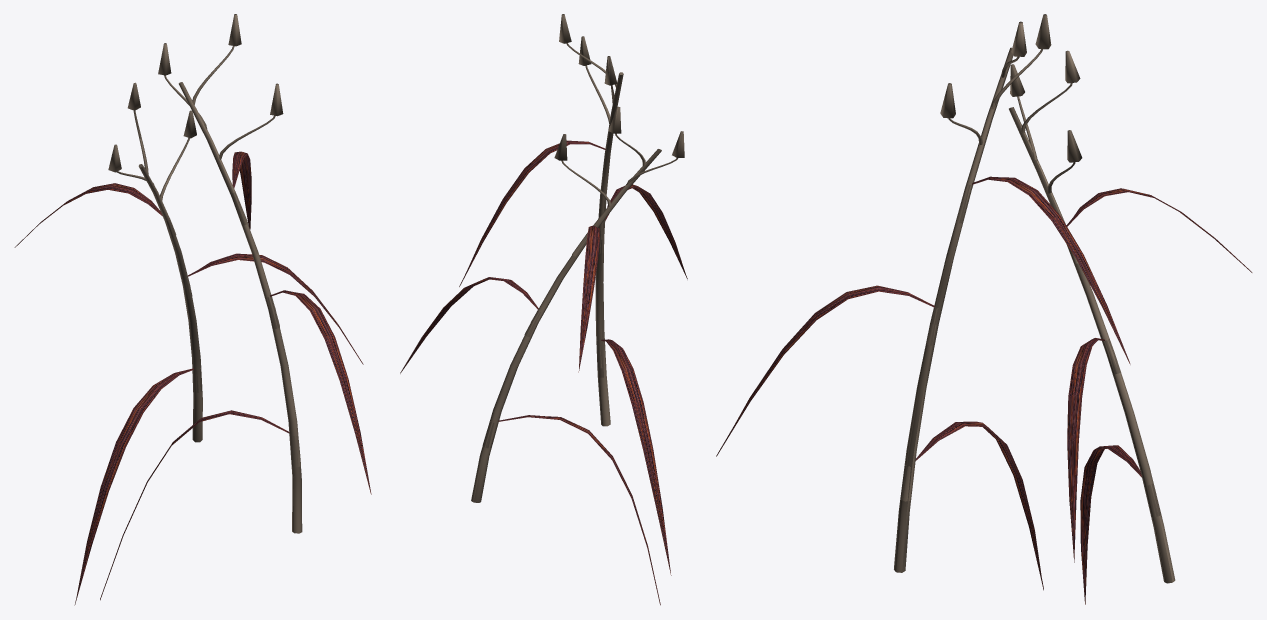
The model's file is dryshoots_06.glb.
3 views of the same model, side by side, from view 1: azimuth 30°, elevation 25°; view 2: azimuth 150°, elevation 25°; view 3: azimuth 270°, elevation 25° (orthographic). The views are drawn at different scales.
Visible parts, largest first — view 1: export; view 2: export; view 3: export.
Boxes of the visible parts, bbox=[...] form: export: bbox=[14, 14, 371, 605]; export: bbox=[400, 14, 687, 605]; export: bbox=[716, 14, 1252, 604].
Size of the model in its own units: 0.5537 by 1.08 by 0.8005.
2 materials, 2 textured.
